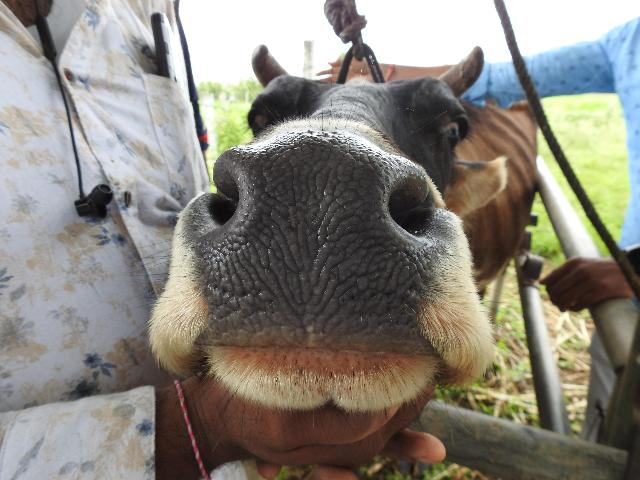Muzzle: (217, 146, 421, 332)
